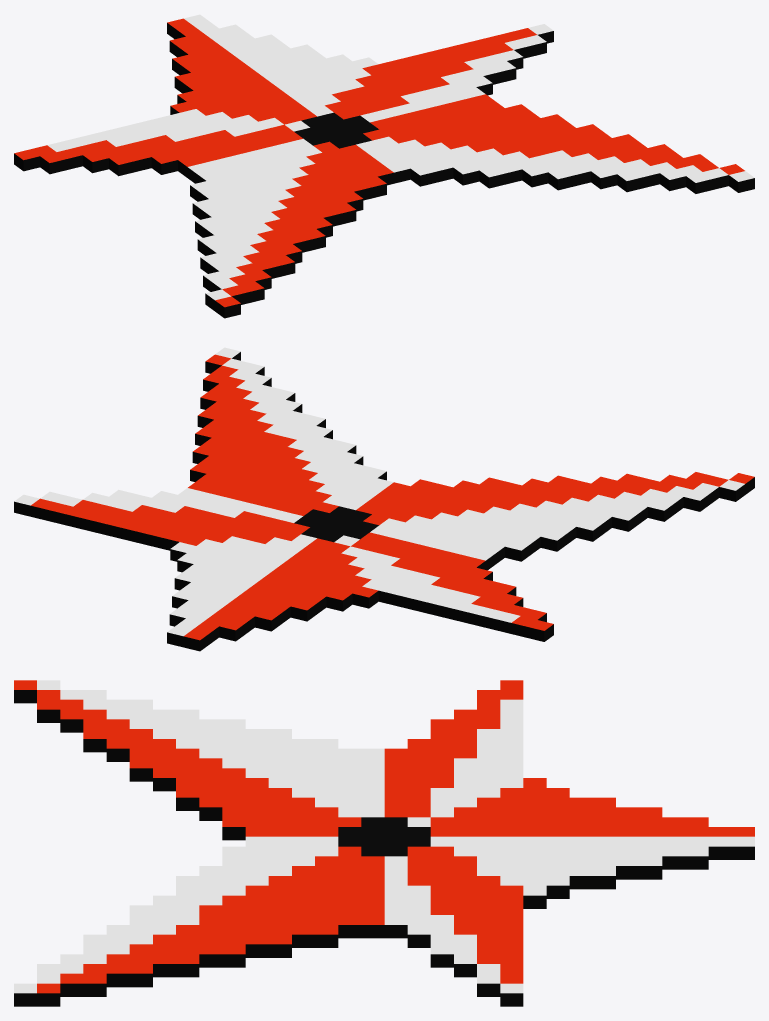
File: DALLAS1_Model.fbx
3 renders of one model, top to bottom at view 1: azimuth 30°, elevation 25°; view 2: azimuth 150°, elevation 25°; view 3: azimuth 270°, elevation 25°, orthographic. The views are drawn at different scales.
Visible parts, largest first — view 1: DALLAS1; view 2: DALLAS1; view 3: DALLAS1.
Boxes of the visible parts, x1,y1,x2,y2 form: DALLAS1: [14, 14, 754, 318]; DALLAS1: [14, 347, 754, 651]; DALLAS1: [14, 680, 754, 1006].
Bounding box in the file's own units: 500 × 10 × 500.
